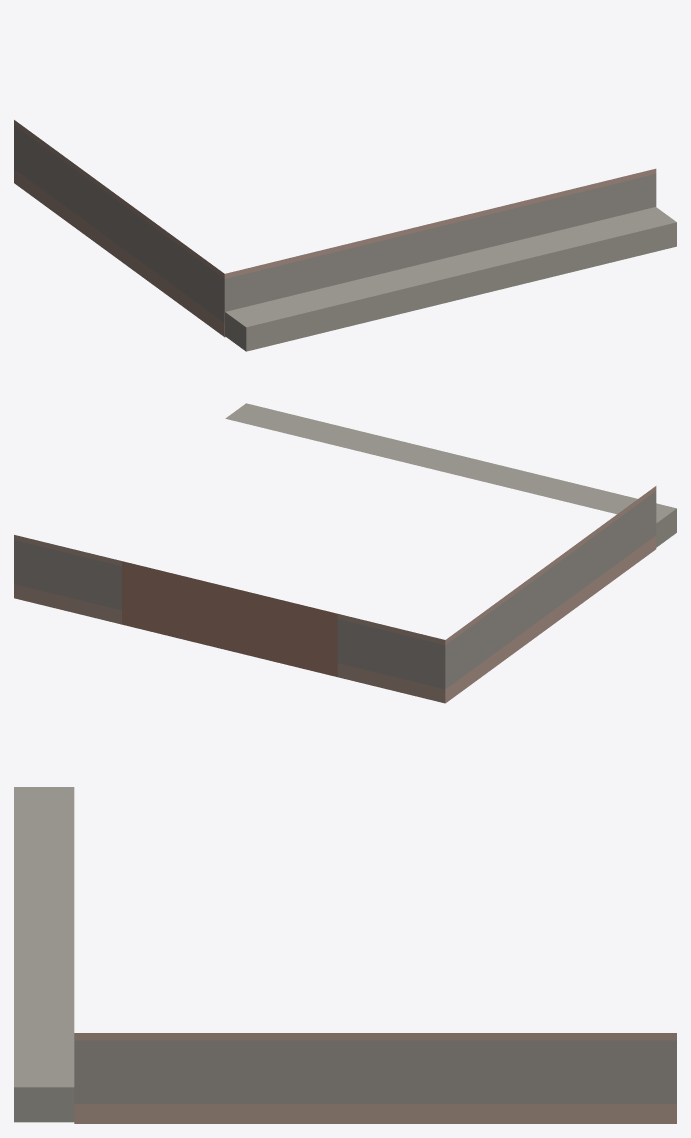
The model's file is brick-floor.flat-v1.lod2.glb.
3 views of the same model, one above another, from view 1: azimuth 30°, elevation 25°; view 2: azimuth 150°, elevation 25°; view 3: azimuth 270°, elevation 25° (orthographic). The views are drawn at different scales.
Parts seen in each view (by area): view 1: brick-floor; view 2: brick-floor; view 3: brick-floor.
Part boxes in pixels (x1,y1,x2,y2): brick-floor: (14,120,676,351); brick-floor: (14,403,676,703); brick-floor: (14,787,676,1123).
Size of the model in its own units: 26 by 3.66 by 24.2.
